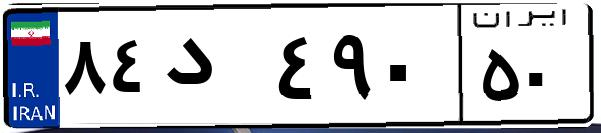0: (385, 28, 445, 110), (525, 38, 570, 115)
4: (270, 28, 330, 110), (110, 28, 158, 98)
5: (475, 38, 525, 113)
8: (57, 26, 110, 100)
9: (330, 28, 385, 110)
د: (158, 20, 270, 120)
